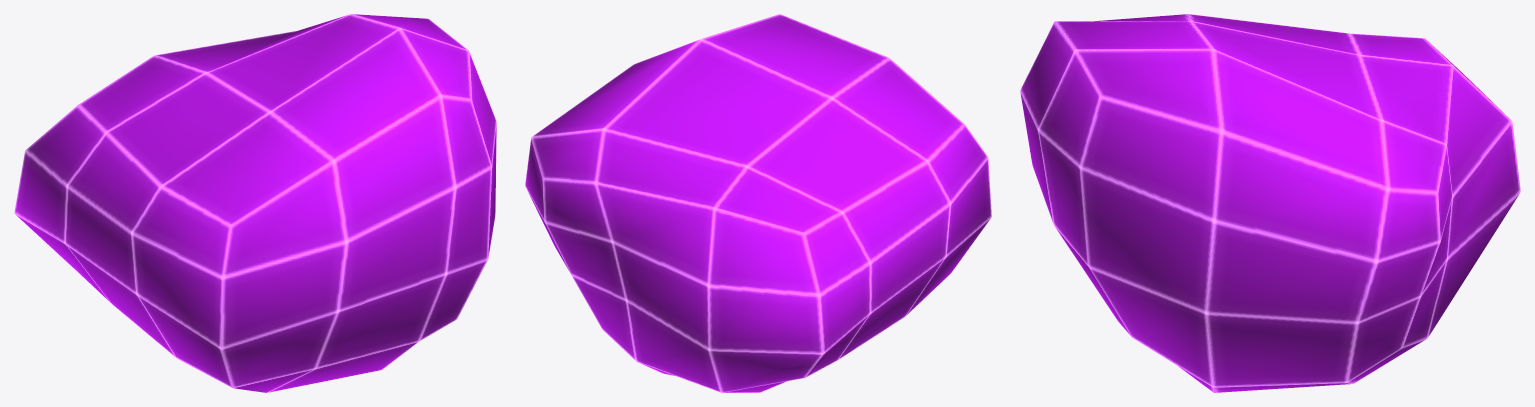
Rendered from Asteroid_small.FBX.
The picture shows the model from 3 angles, left to right: view 1: azimuth 30°, elevation 25°; view 2: azimuth 150°, elevation 25°; view 3: azimuth 270°, elevation 25°; orthographic projection. The views are drawn at different scales.
Visible parts, largest first — view 1: Asteroid_small; view 2: Asteroid_small; view 3: Asteroid_small.
Part boxes in pixels (x1,y1,x2,y2): Asteroid_small: [14, 14, 496, 392]; Asteroid_small: [525, 14, 991, 392]; Asteroid_small: [1020, 14, 1520, 392].
Size of the model in its own units: 160 by 128 by 165.
